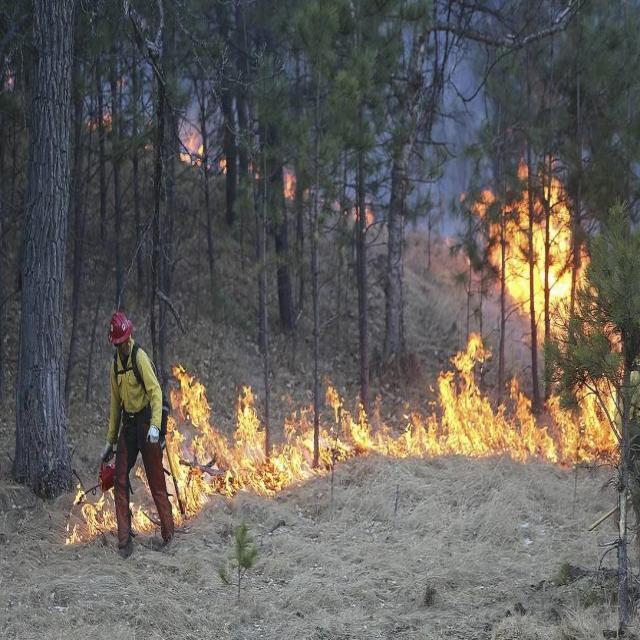fire: (168, 185, 623, 519)
